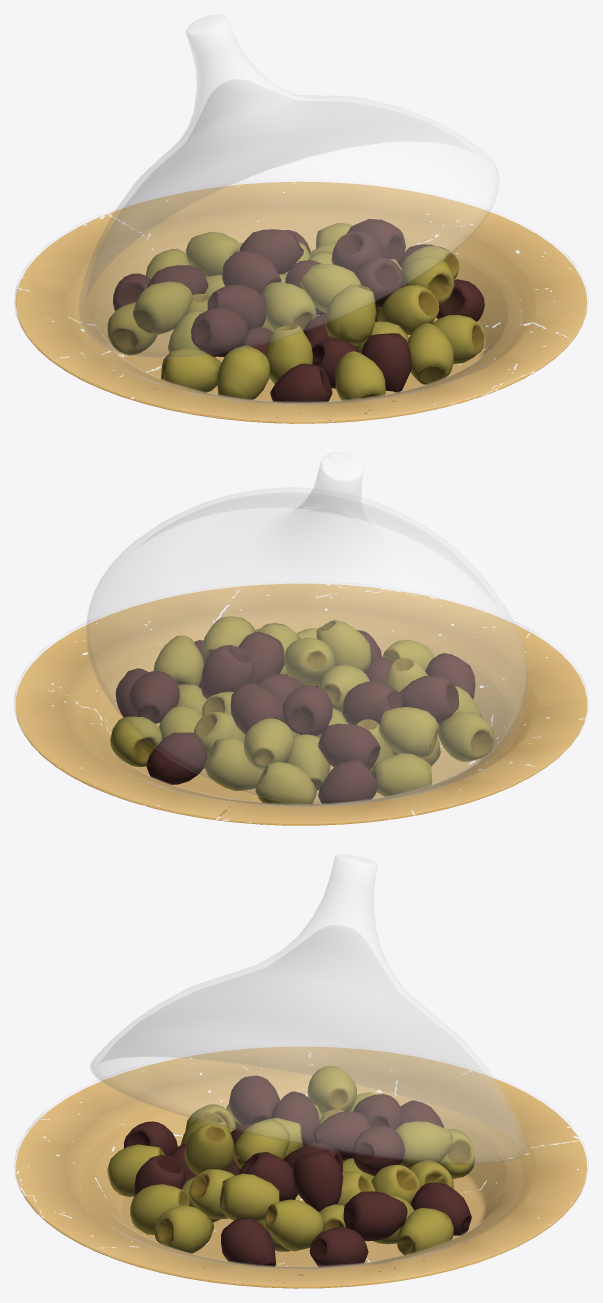
File: olives.glb
The picture shows the model from 3 angles, top to bottom: view 1: azimuth 30°, elevation 25°; view 2: azimuth 150°, elevation 25°; view 3: azimuth 270°, elevation 25°; orthographic projection.
Visible parts, largest first — view 1: glassCover, goldLeaf, glassDish, olives; view 2: glassCover, glassDish, goldLeaf, olives; view 3: glassCover, goldLeaf, olives, glassDish.
Part boxes in pixels (<box>): glassCover: <box>78,14,499,358</box>; goldLeaf: <box>15,181,587,423</box>; glassDish: <box>14,180,588,422</box>; olives: <box>107,219,484,402</box>; glassCover: <box>86,452,527,805</box>; glassDish: <box>14,581,588,824</box>; goldLeaf: <box>15,583,587,825</box>; olives: <box>110,616,494,804</box>; glassCover: <box>90,854,527,1164</box>; goldLeaf: <box>15,1047,587,1288</box>; olives: <box>107,1065,474,1267</box>; glassDish: <box>14,1057,588,1287</box>.
Bounding box in the file's own units: 0.4593 × 0.2853 × 0.4593.
Materials: 4 (2 with a texture image).
